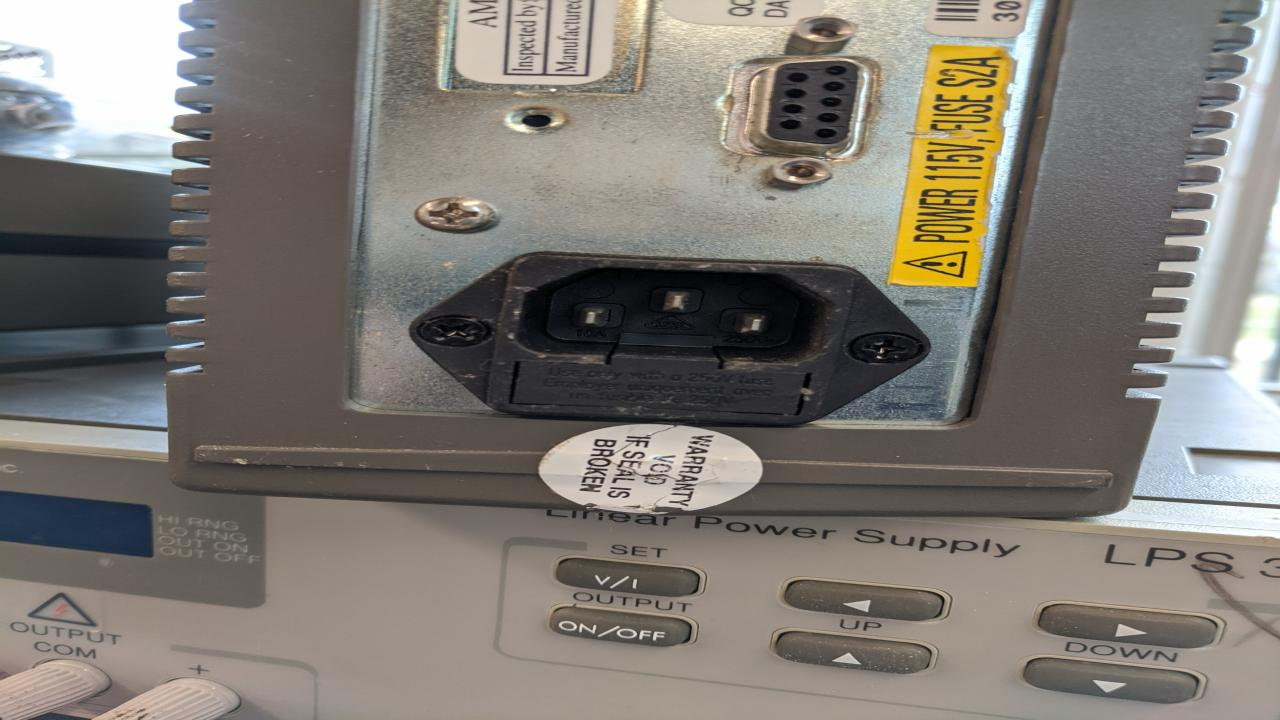CRS: (414, 195, 500, 236), (416, 317, 492, 348), (852, 332, 924, 361)
